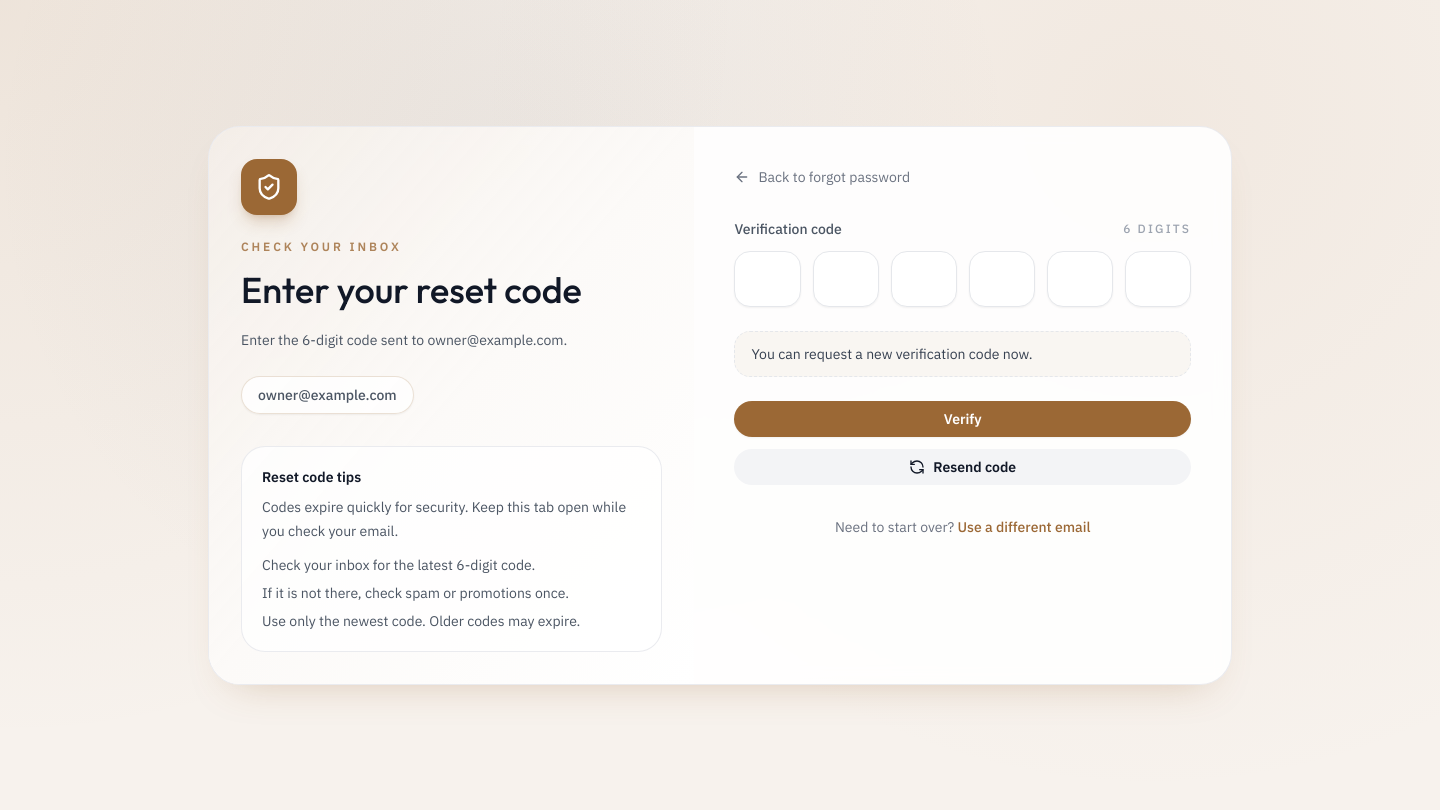
Test: ForgotPasswordOtp › shows a clear message when the OTP is invalid
Click the field named "otp digit".
click(767, 278)  # box [734,250,800,306]
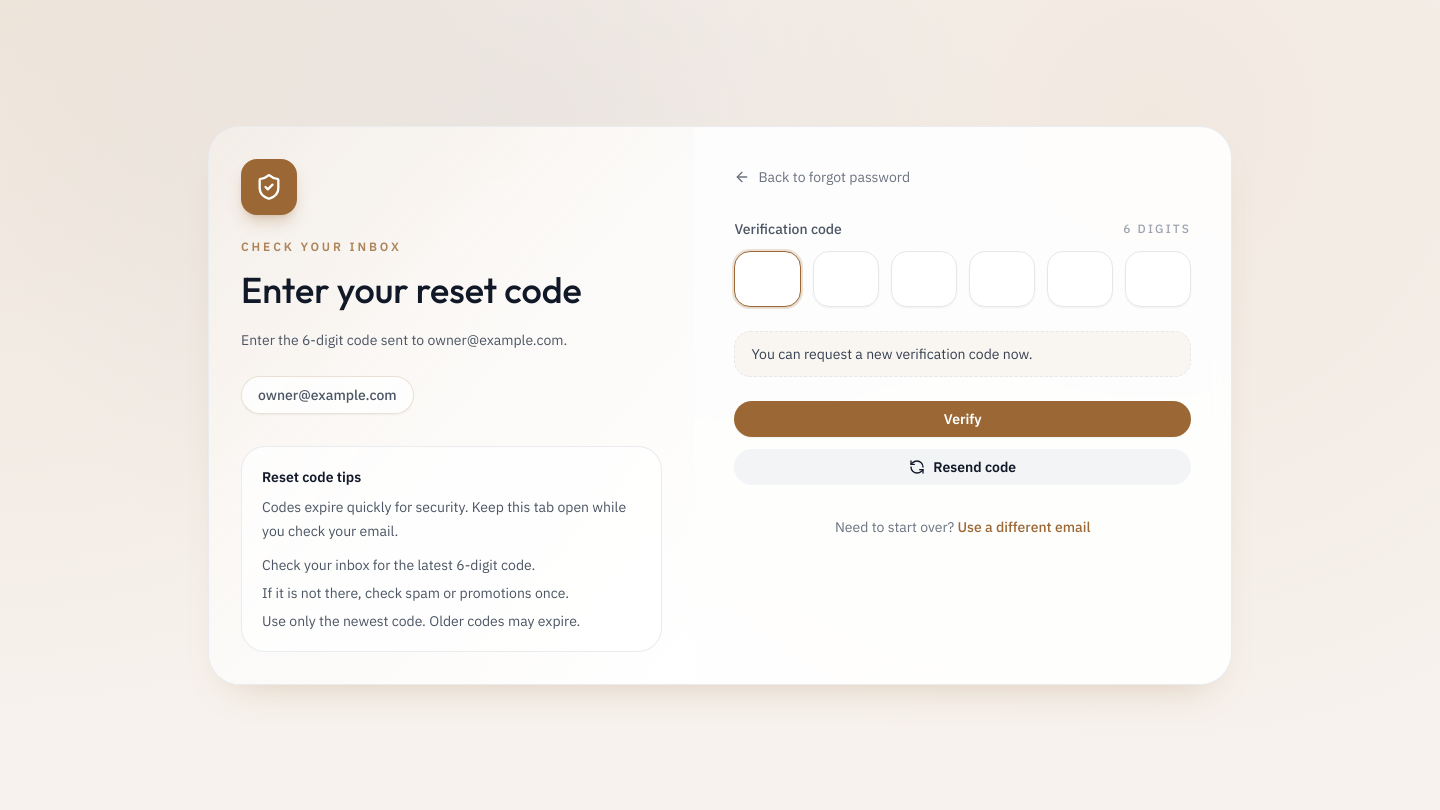
Type keys "123456"
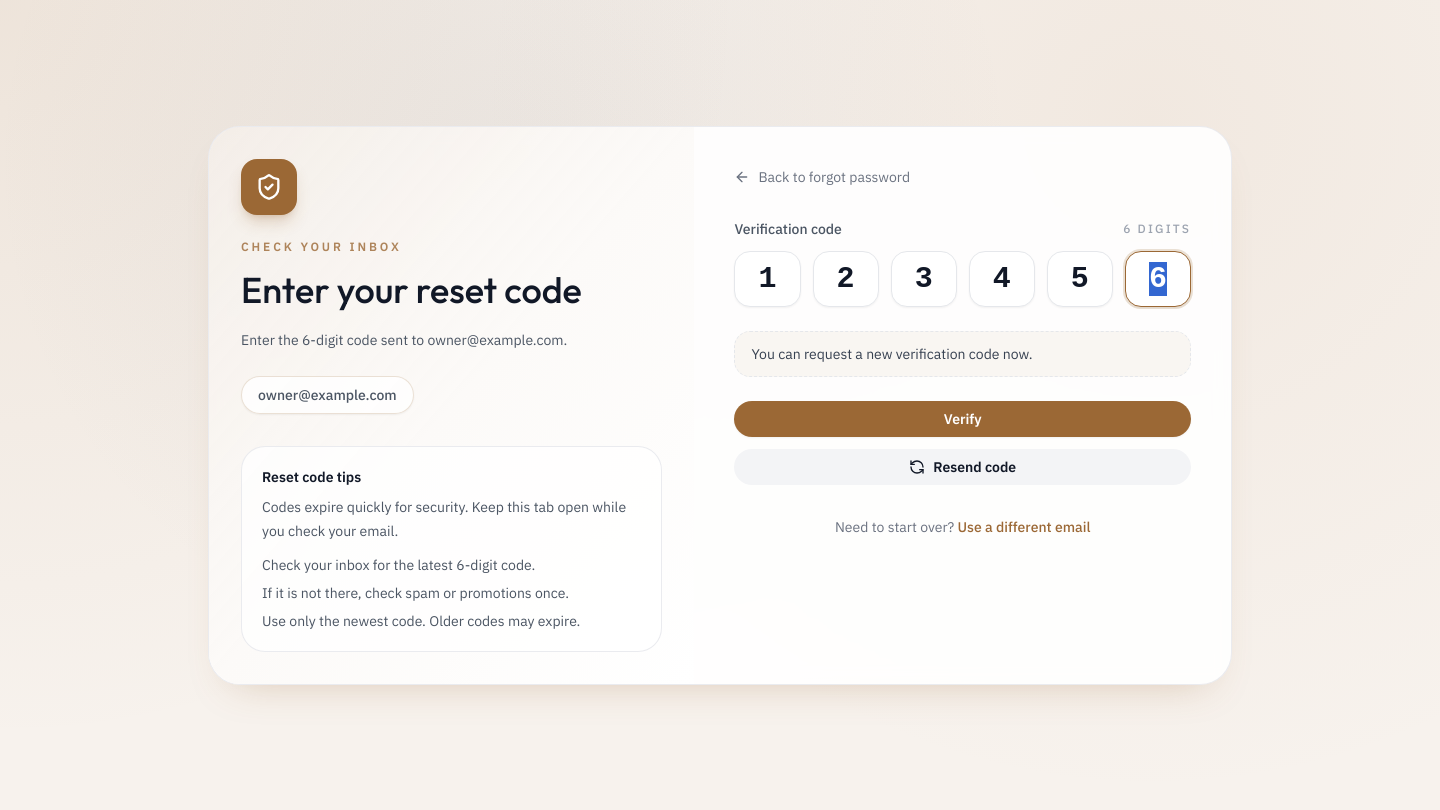
Click the button "Verify".
click(963, 418)  # box [734,400,1191,436]
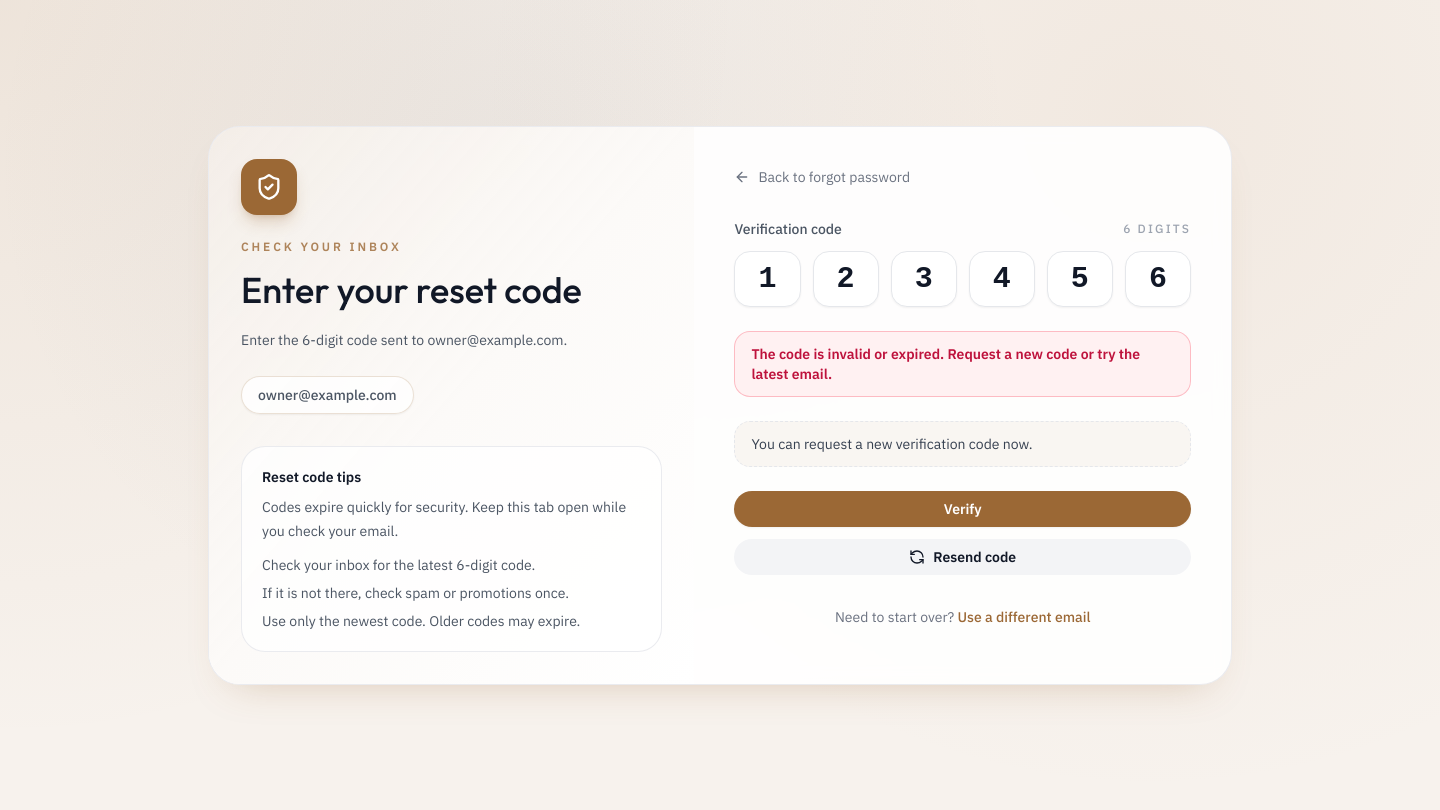
Expected: the text "invalid or expired" is shown, [751,344,1140,382]
